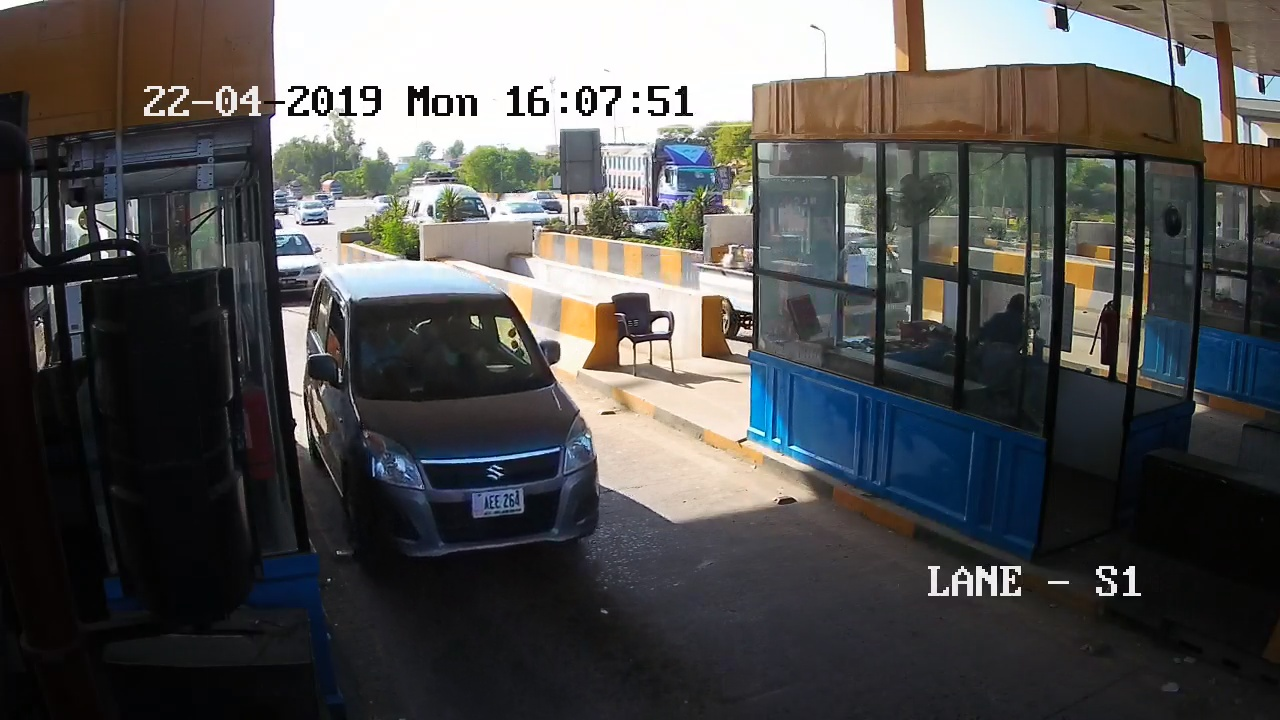Number Plate (Car): (467, 489, 526, 515)
